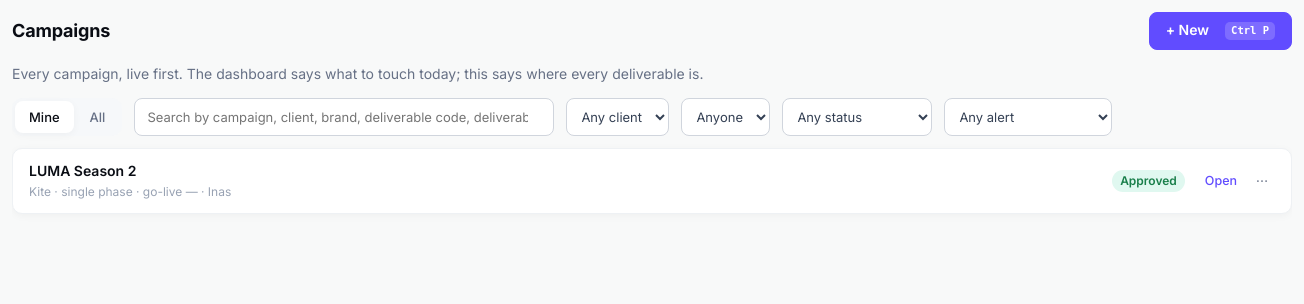
Test: CampaignsPage — Mine and All, and the filters (CG-00, I57.3) › opens on Mine and shows All with one press
The image size is (1304, 304).
Expected: the list item with test id "campaign-row-mine1" is shown, [12,148,1292,214]
Click the button with test id "campaigns-scope-all". click: (98, 117)
box: [76,101,119,133]
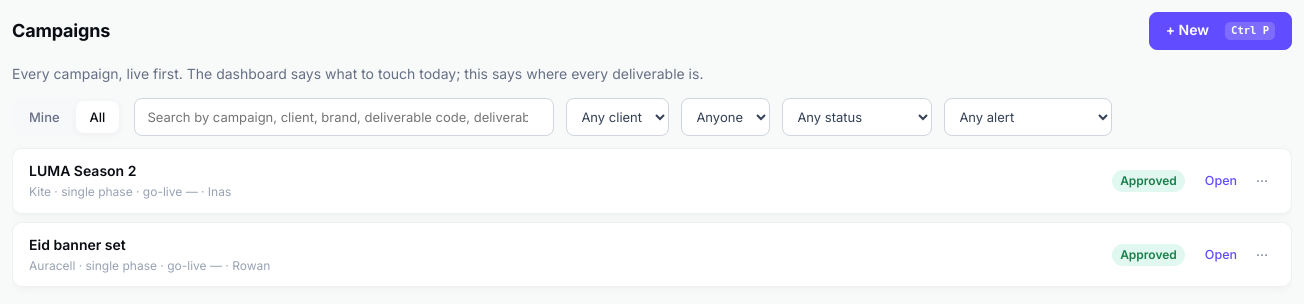
Result: the list item with test id "campaign-row-theirs" is shown at [12,222,1292,287]
